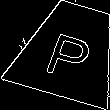P_N: (42, 21, 98, 80)
